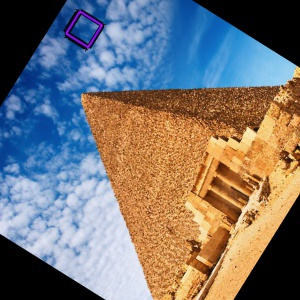square: (62, 8, 107, 51)
